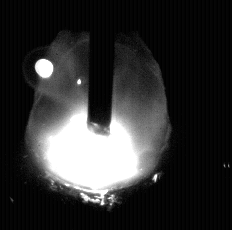arame: (89, 0, 113, 136)
poca: (25, 0, 171, 230)
